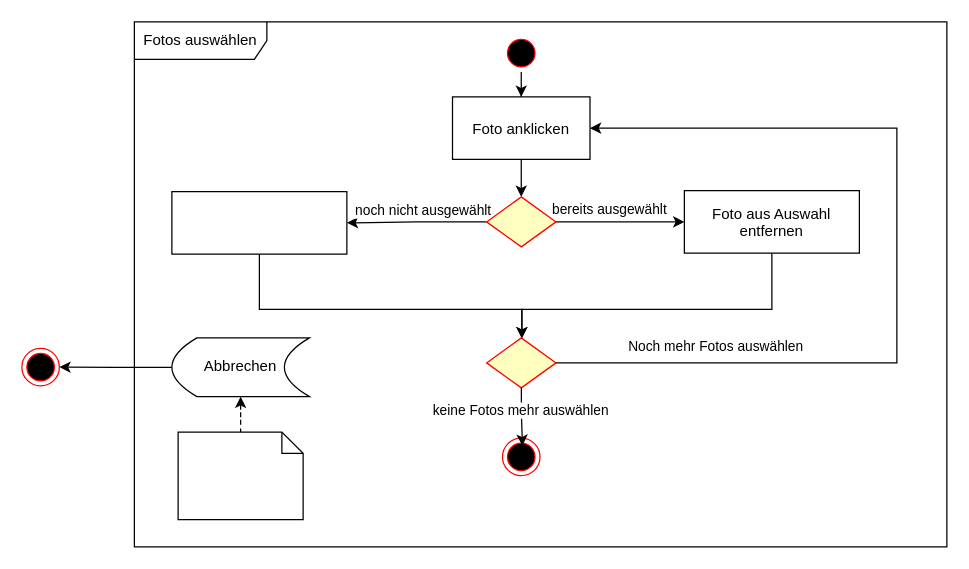
This 969x569 diagram has some shape labels left out. The centre of each missing label's shape, as x and y in pixels:
Foto in Auswahl speichern: the point at 259,222
Man kann jederzeit die Aktivität abbrechen: the point at 240,475
